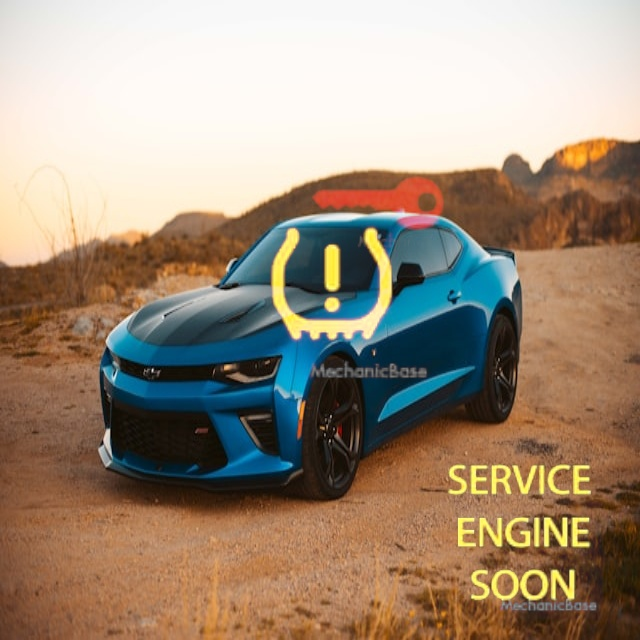symbol: (230, 183, 435, 388), (285, 71, 471, 257), (434, 450, 603, 619)
